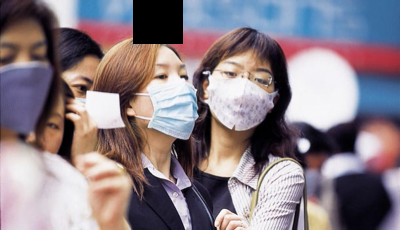with_mask: (1, 39, 54, 137), (209, 59, 276, 134), (134, 62, 198, 138)
